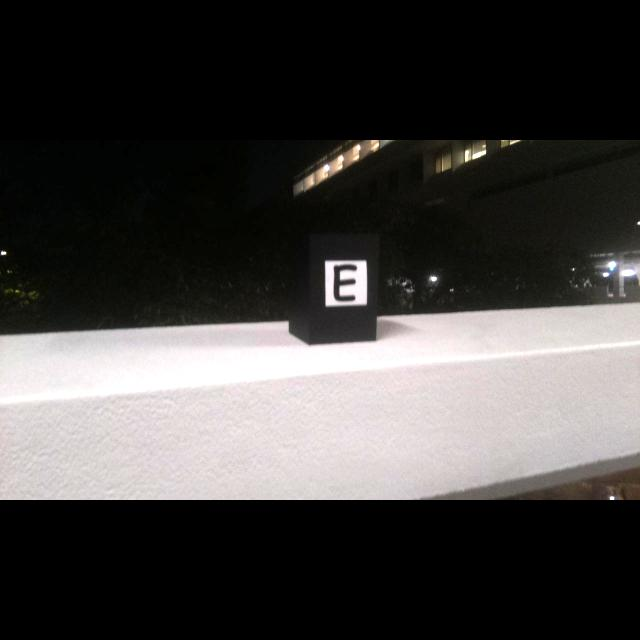E: (333, 265, 357, 301)
